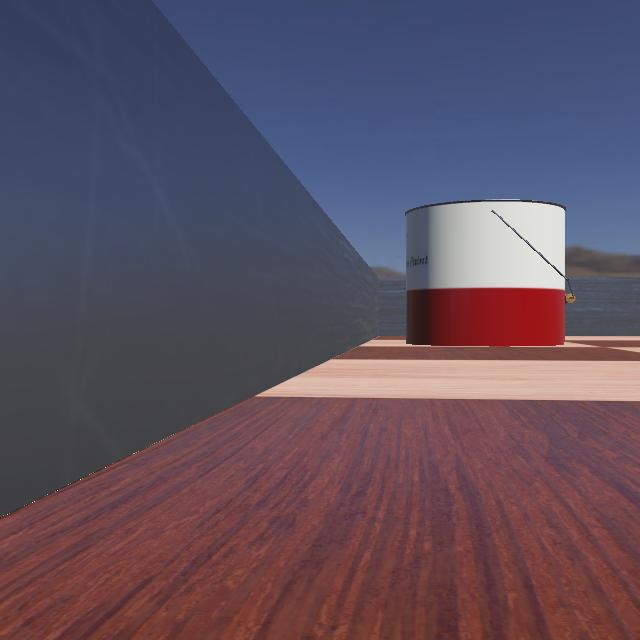paint-bucket: (396, 196, 604, 348)
